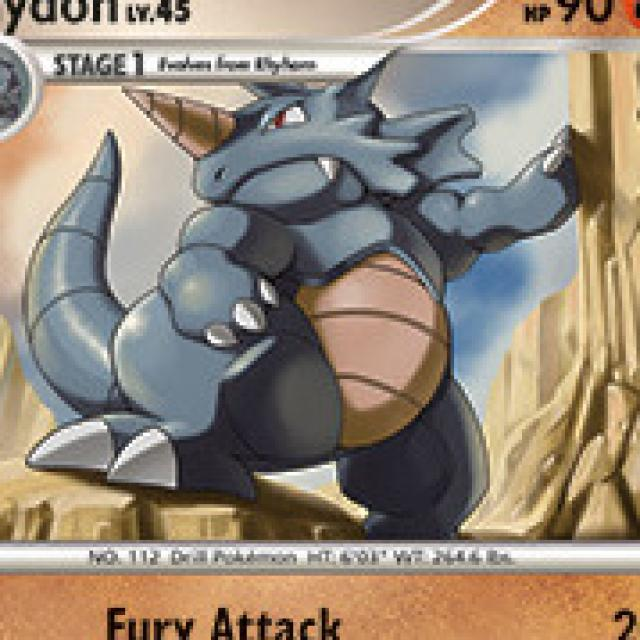Rhydon: (24, 71, 500, 488)
